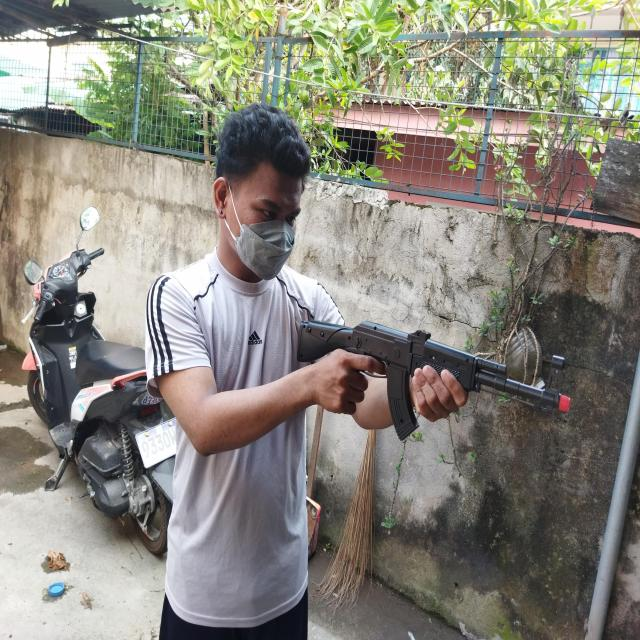rifle: (297, 320, 571, 440)
